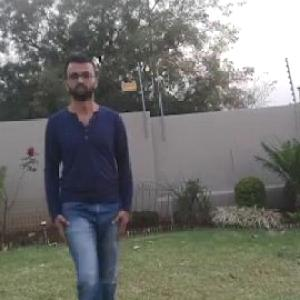follow: (50, 65, 132, 299)
